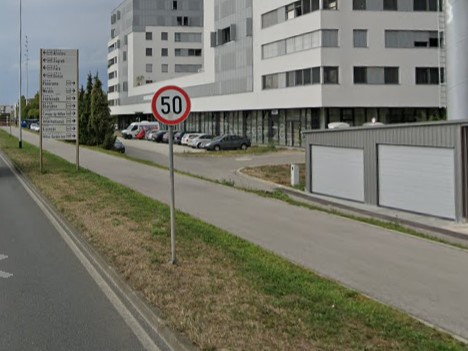Ograničenje brzine 50: (151, 85, 191, 125)
